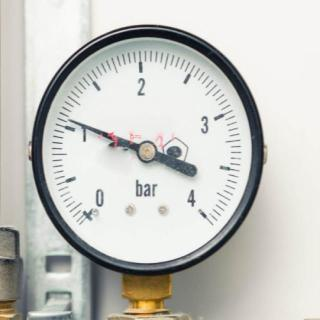gauge: (17, 8, 272, 276), (70, 186, 108, 232), (188, 199, 214, 225), (136, 140, 158, 164), (64, 116, 76, 124)
